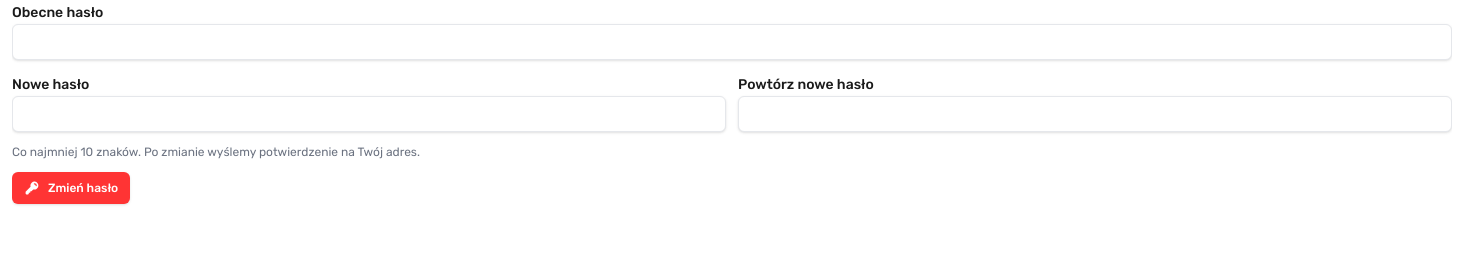
Test case: PasswordForm › POKAZUJE odmowe z serwera zamiast udawac sukces
Type "zle-haslo-123" into the password field labelled "Obecne hasło" at [732, 42], box [12, 24, 1452, 60]
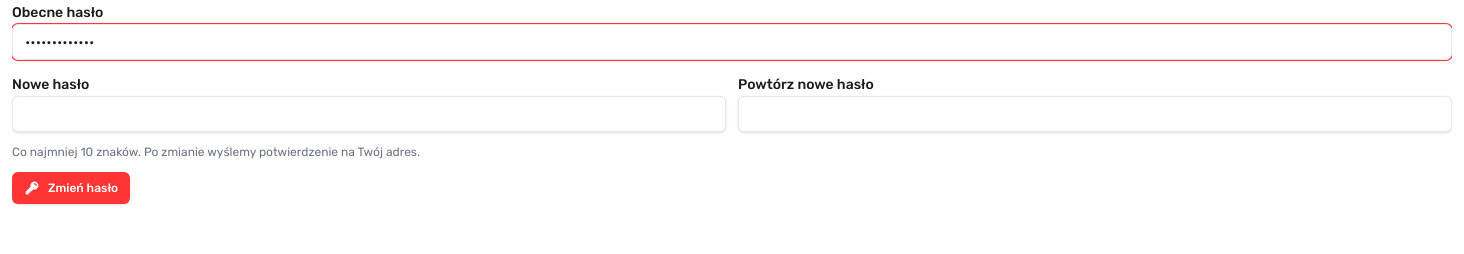
Type "nowe-haslo-2026" into the password field labelled "Nowe hasło" at [369, 114], box [12, 96, 726, 132]
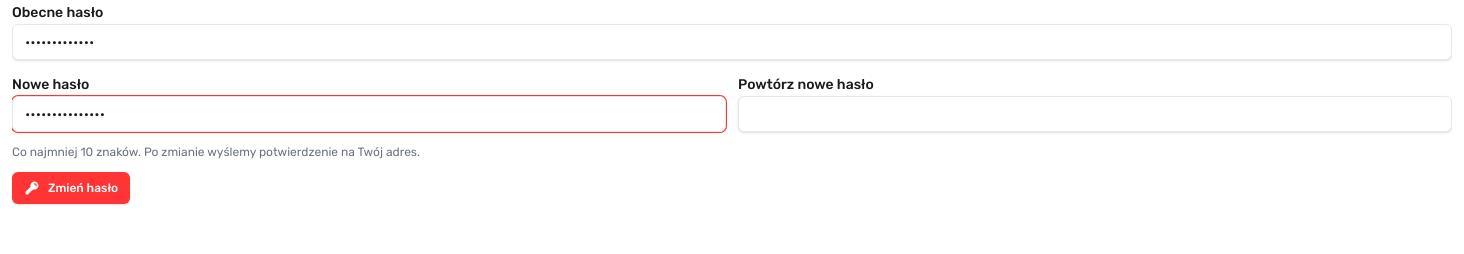
Type "nowe-haslo-2026" into the password field labelled "Powtórz nowe hasło" at [1095, 114], box [738, 96, 1452, 132]
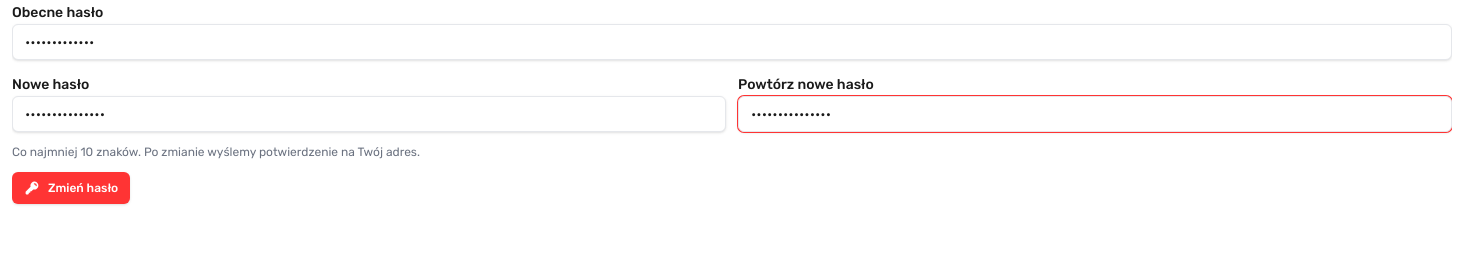
Click the button "Zmień hasło" at [71, 188], box [12, 172, 130, 204]
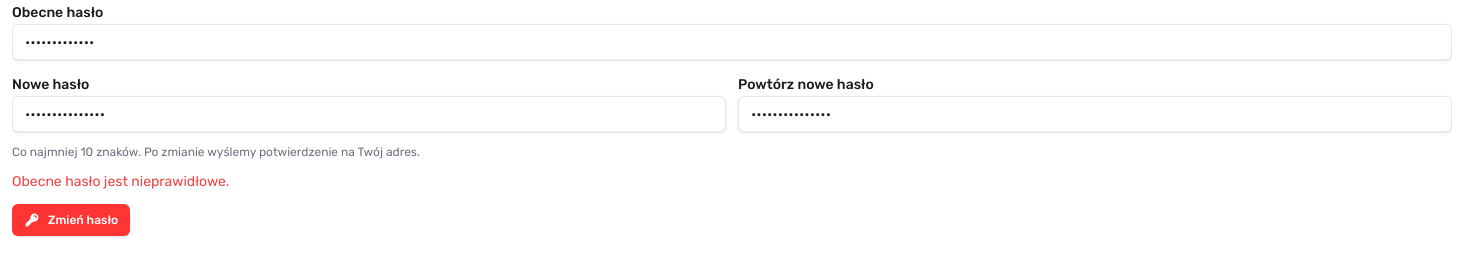
Now the text "Obecne hasło jest nieprawidłowe." is shown, box [12, 173, 229, 190]
